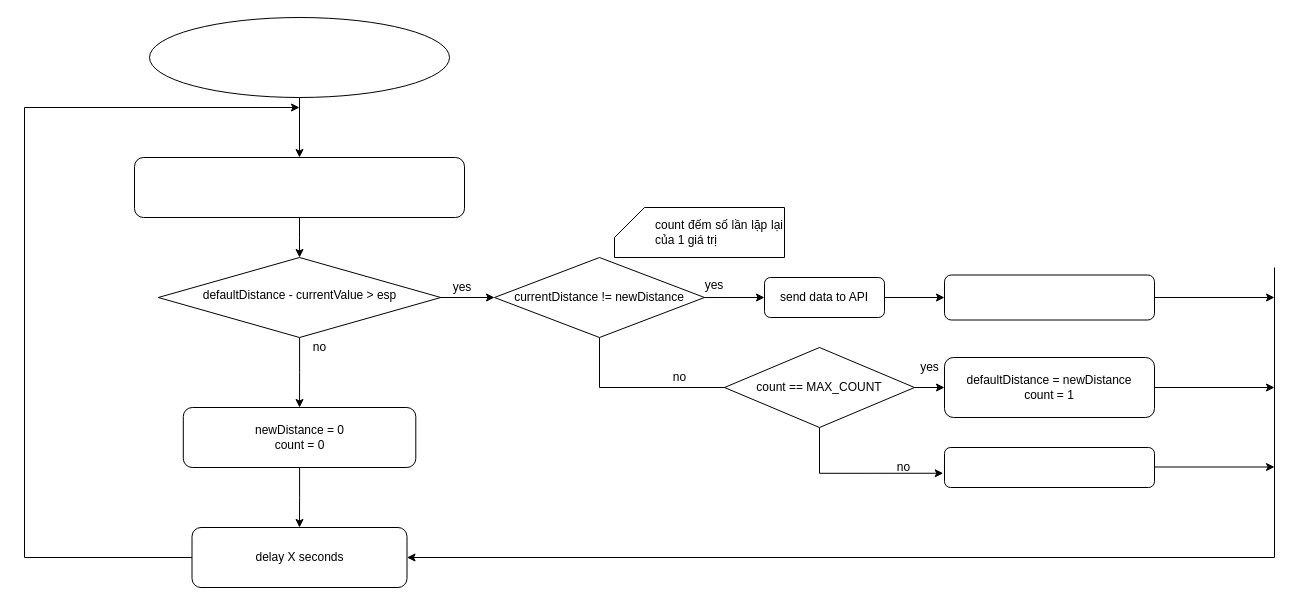
This 1300x605 diagram has some shape labels left out. Here are the shapes that lost their labels. From the top down, the centre of each, then its label:
At point (299, 57): "defaultDistance = getDistance() newDistance = 0 count = 0 MAX_COUNT = N".
At point (299, 187): "currentValue = getDistance()".
At point (1049, 297): "newDistance = currentValue count = 1".
At point (1049, 467): "count++".
